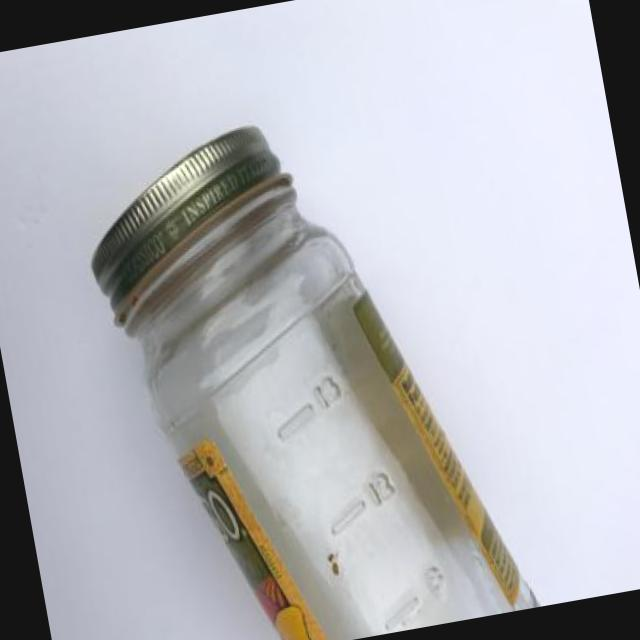chai_thuy_tinh: (92, 124, 541, 640)
